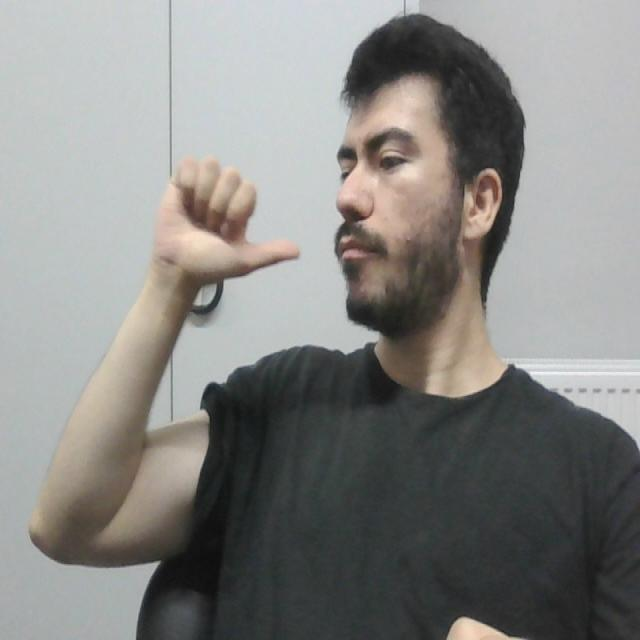icmek: (122, 148, 372, 284)
